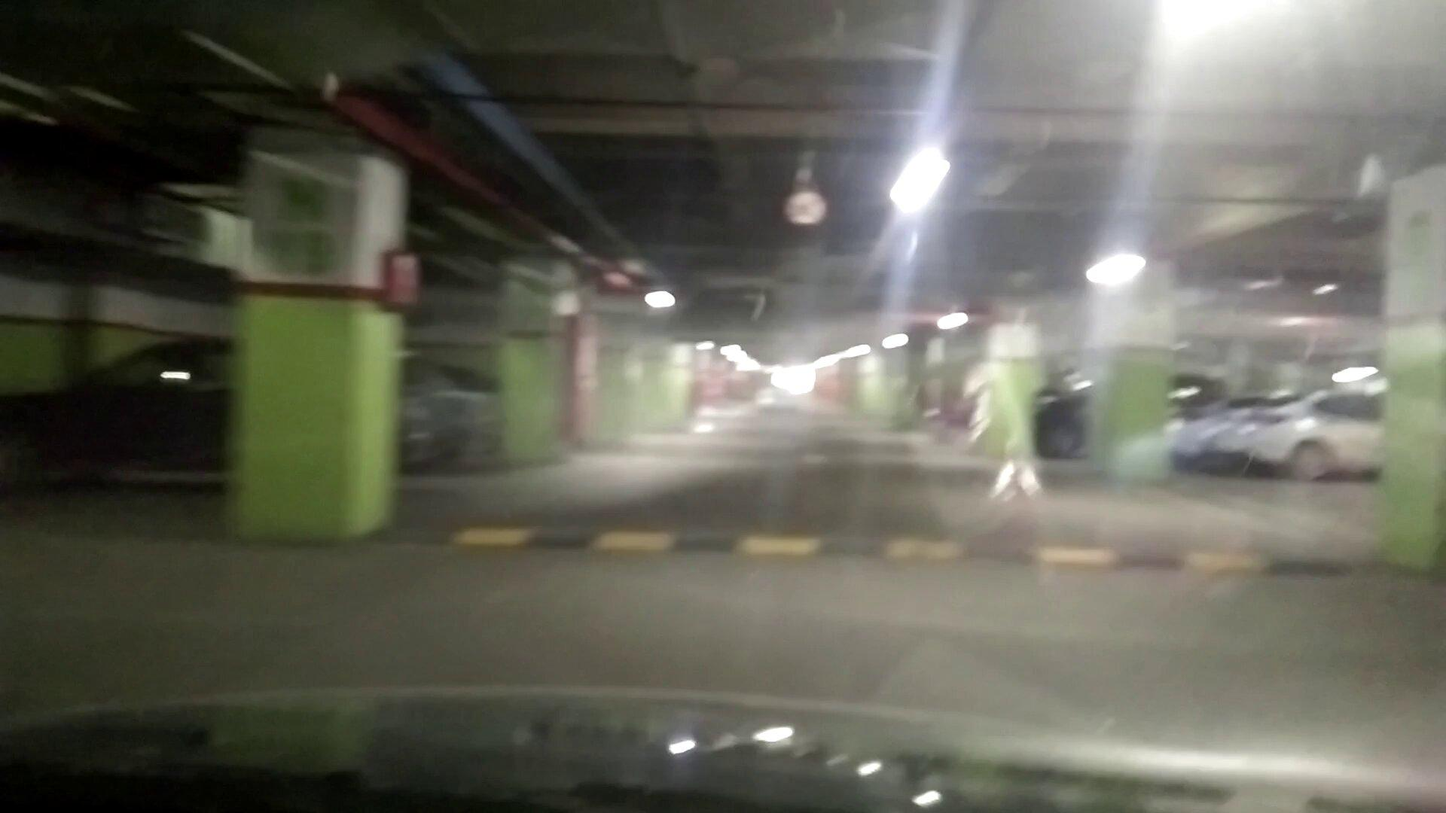Bump: (405, 534, 1446, 572)
